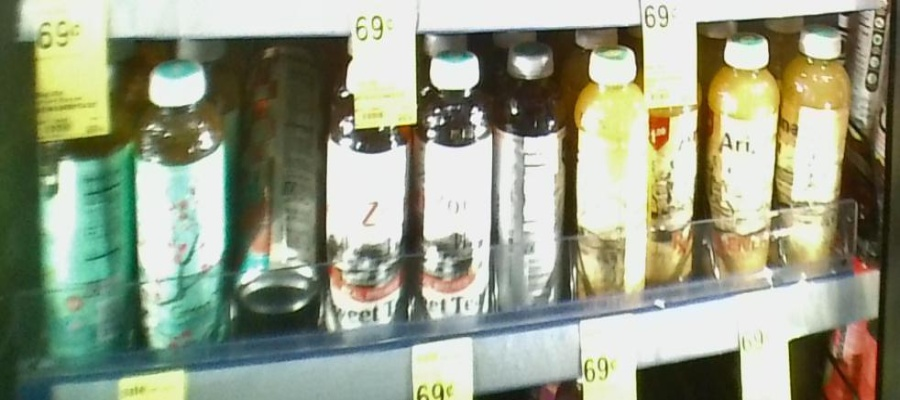bottle: (33, 63, 134, 360), (136, 54, 222, 367), (237, 49, 324, 334), (329, 52, 414, 333), (414, 50, 494, 327), (497, 38, 571, 328), (573, 42, 650, 309), (708, 28, 778, 293), (782, 24, 851, 281), (649, 38, 703, 284)
